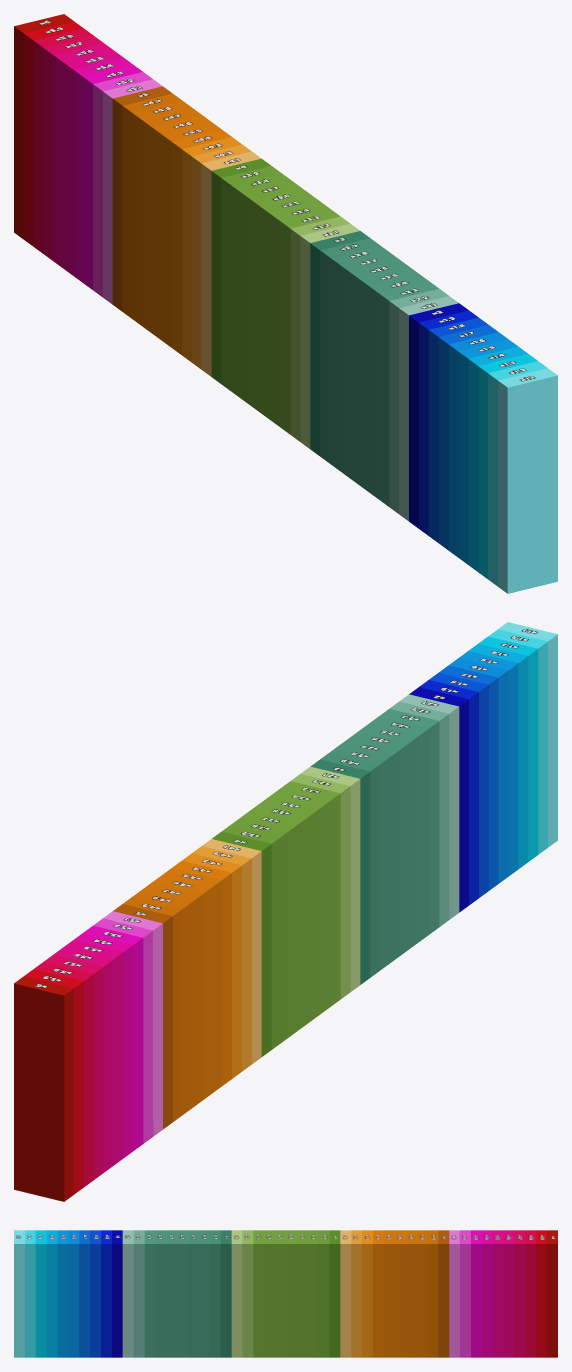
The model's file is Point_line (1).FBX.
The picture shows the model from 3 angles, top to bottom: view 1: azimuth 30°, elevation 25°; view 2: azimuth 150°, elevation 25°; view 3: azimuth 270°, elevation 25°; orthographic projection. The views are drawn at different scales.
Parts seen in each view (by area): view 1: Box001; view 2: Box001; view 3: Box001.
Part boxes in pixels (x1,y1,x2,y2): Box001: [14, 14, 557, 593]; Box001: [14, 622, 557, 1201]; Box001: [14, 1230, 557, 1357].
Bounding box in the file's own units: 27.94 × 476 × 110.
